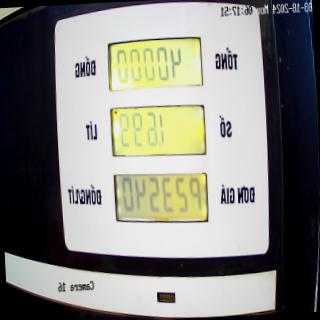screen: (105, 30, 212, 232)
